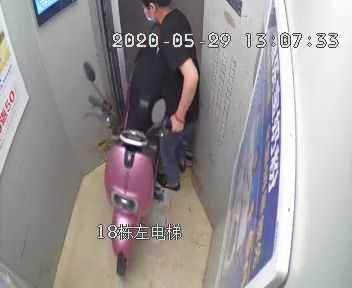Electric-bicycle: (85, 23, 174, 270)
